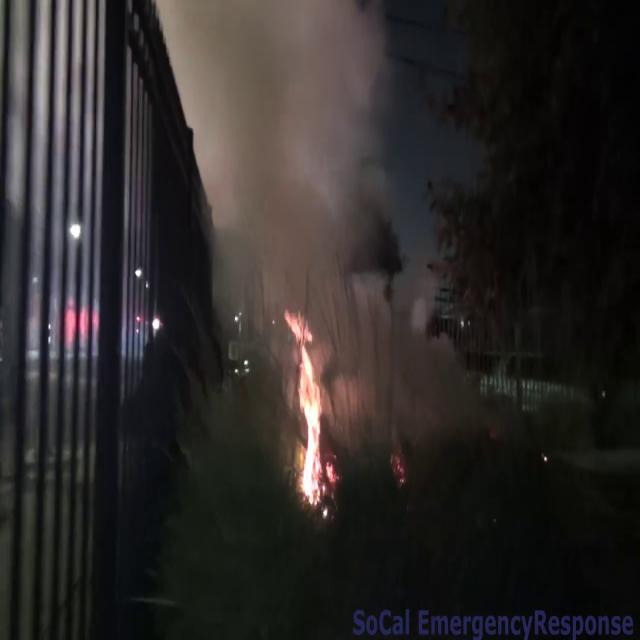Fire: (282, 302, 330, 504)
Smoke: (181, 1, 431, 401)
